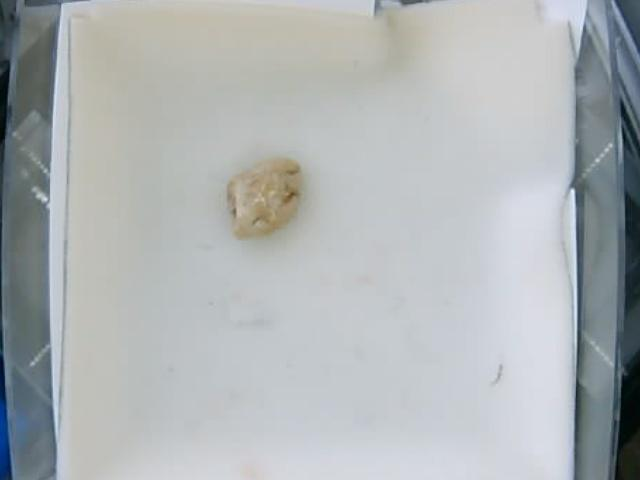Pebble: (228, 158, 303, 237)
